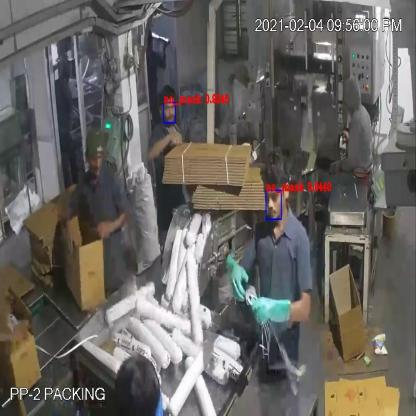glove: (249, 284, 300, 338), (222, 240, 252, 306)
no_glove: (0, 303, 35, 360), (96, 200, 130, 244), (145, 129, 182, 162), (63, 208, 86, 259)
